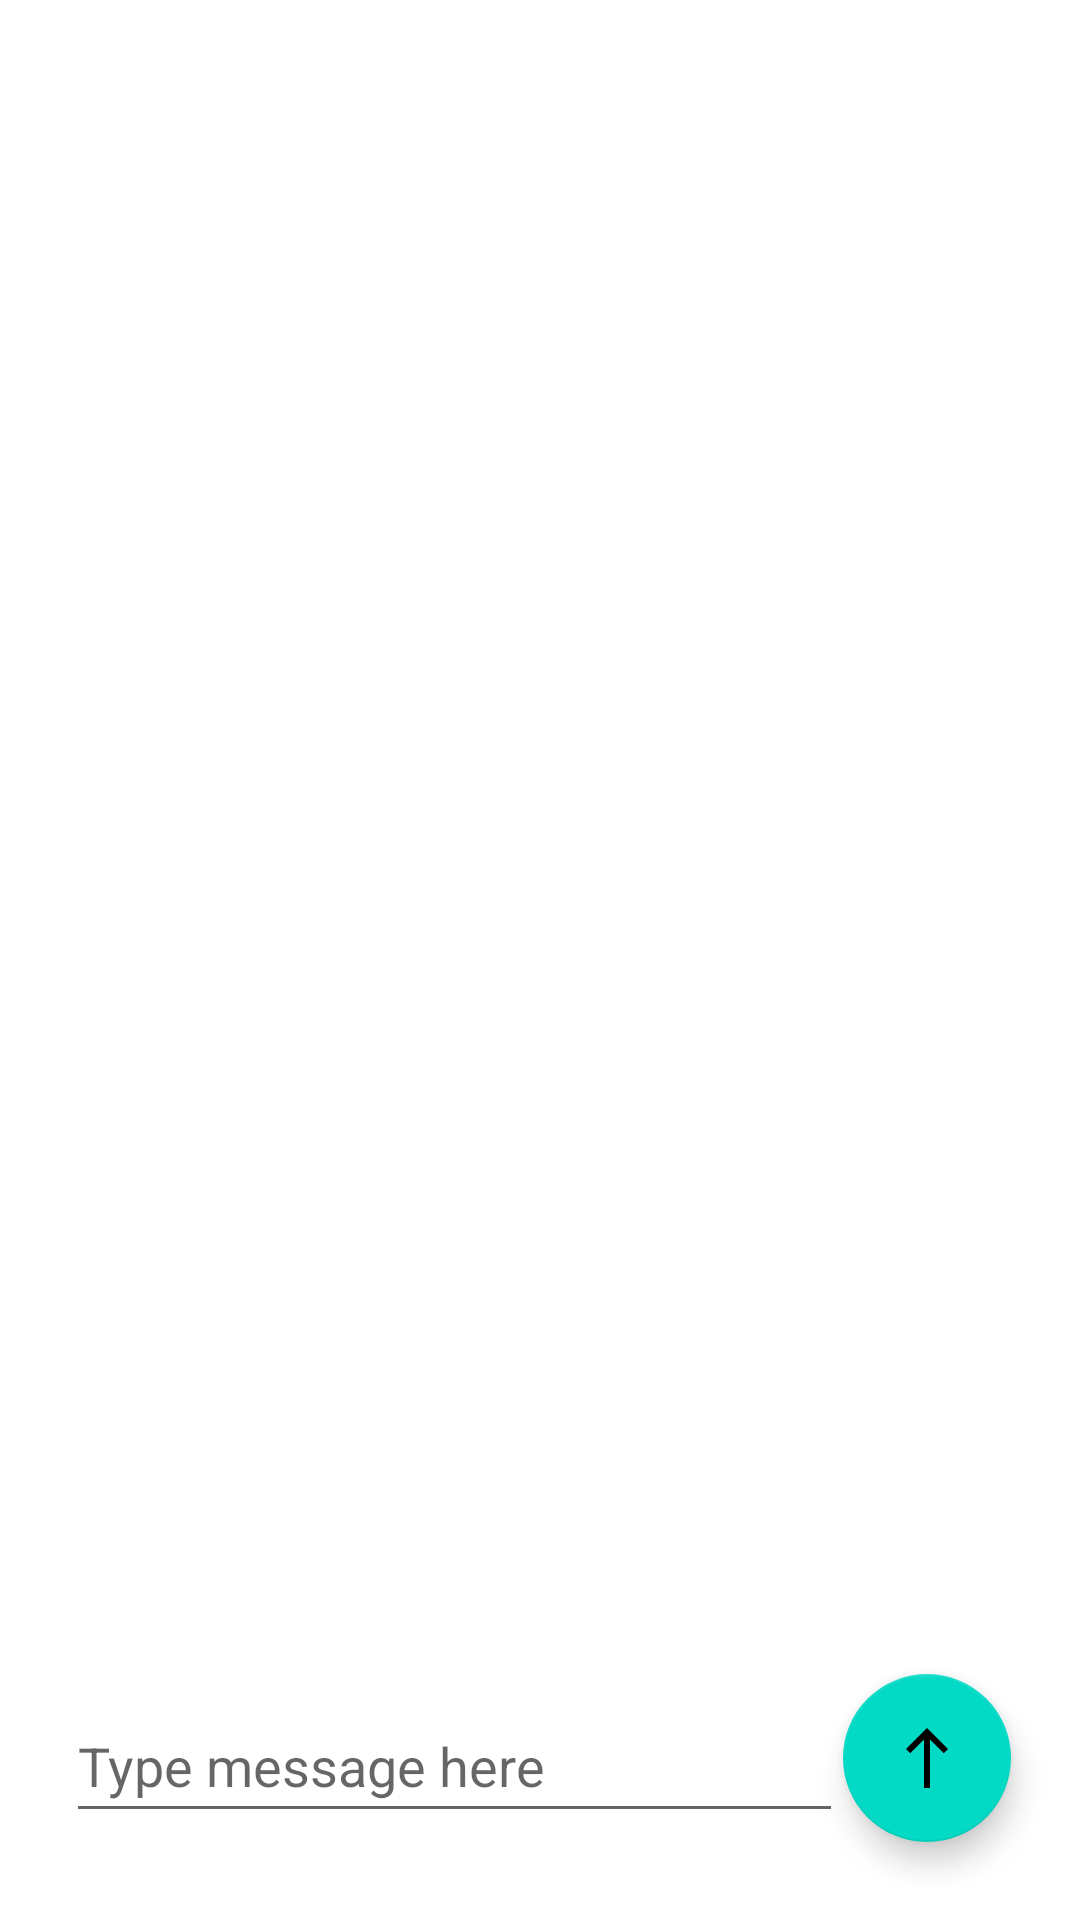

Screen size 1080*1920. Icon name, then its center in pixels as point (x, y):
north: point (927, 1758)
